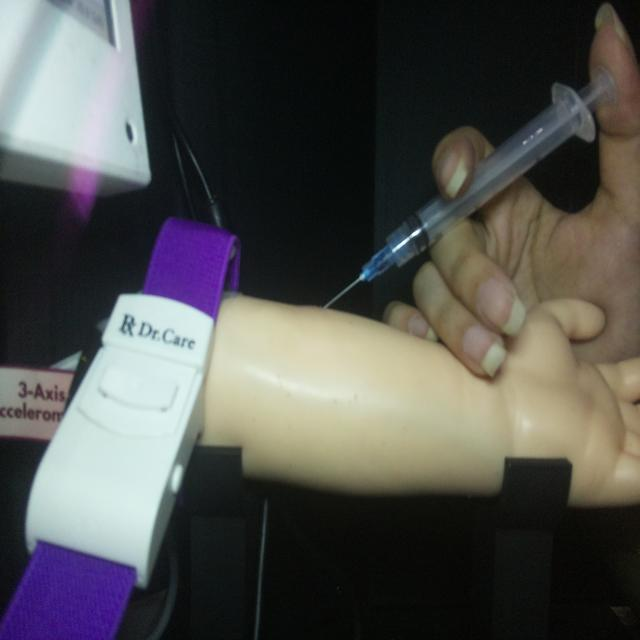28 degrees: (322, 62, 618, 312)
